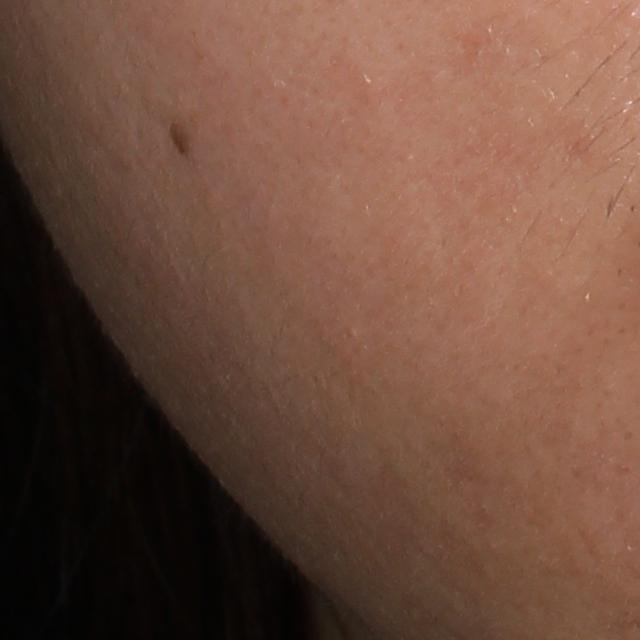nevus: (164, 121, 195, 165)
